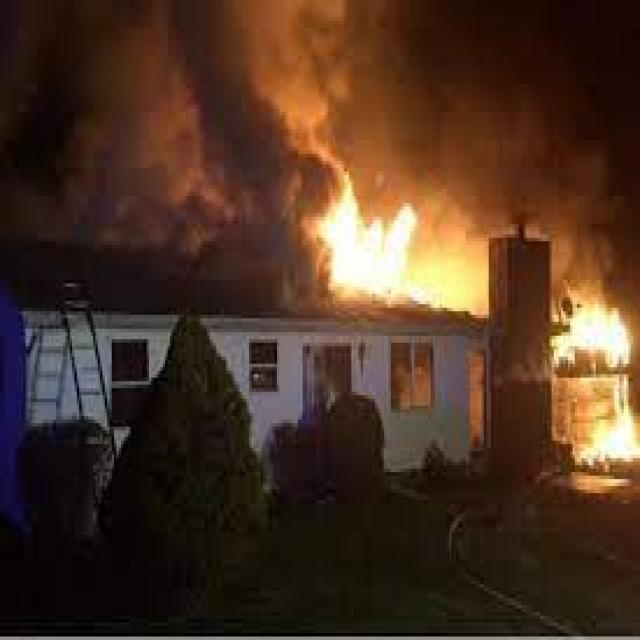Fire: (562, 254, 632, 464), (320, 166, 406, 313)
